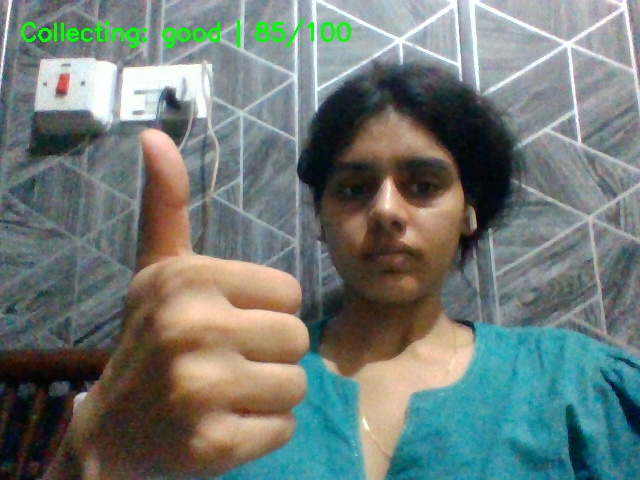good: (94, 121, 327, 480)
